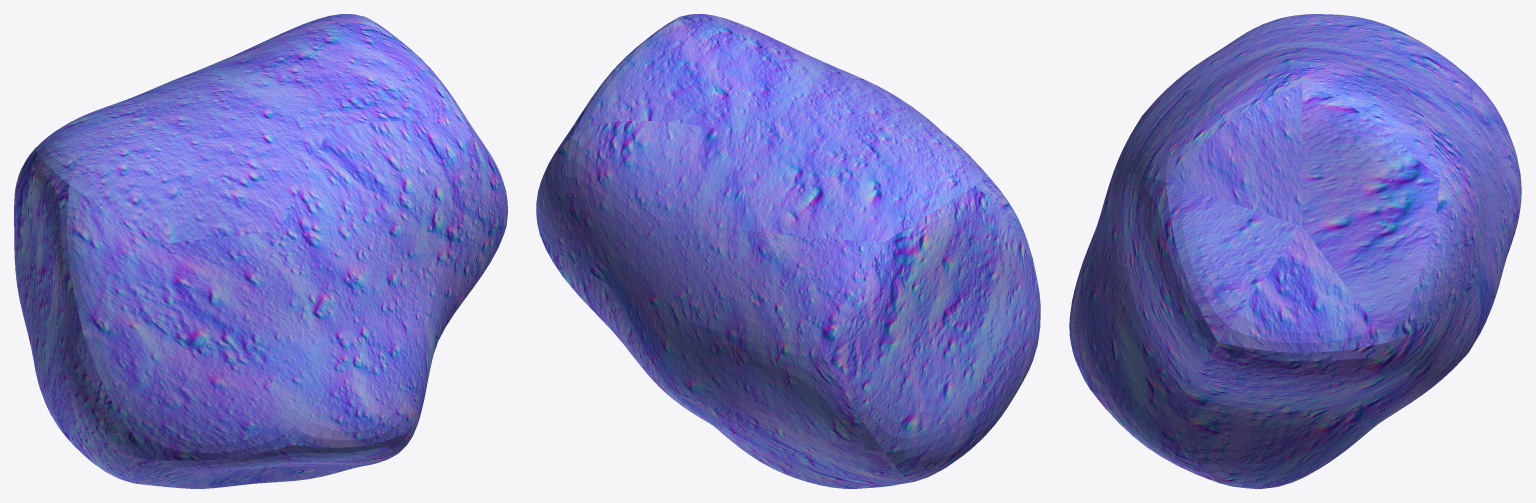
File: mediumasteroid15_LOD1.fbx
3 views of the same model, side by side, from view 1: azimuth 30°, elevation 25°; view 2: azimuth 150°, elevation 25°; view 3: azimuth 270°, elevation 25° (orthographic). The views are drawn at different scales.
Visible parts, largest first — view 1: Icosphere; view 2: Icosphere; view 3: Icosphere.
Part boxes in pixels (left/top/right/bottom): Icosphere: left=14, top=14, right=507, bottom=488; Icosphere: left=536, top=14, right=1040, bottom=488; Icosphere: left=1069, top=14, right=1521, bottom=488.
Size of the model in its own units: 250 by 232 by 211.
